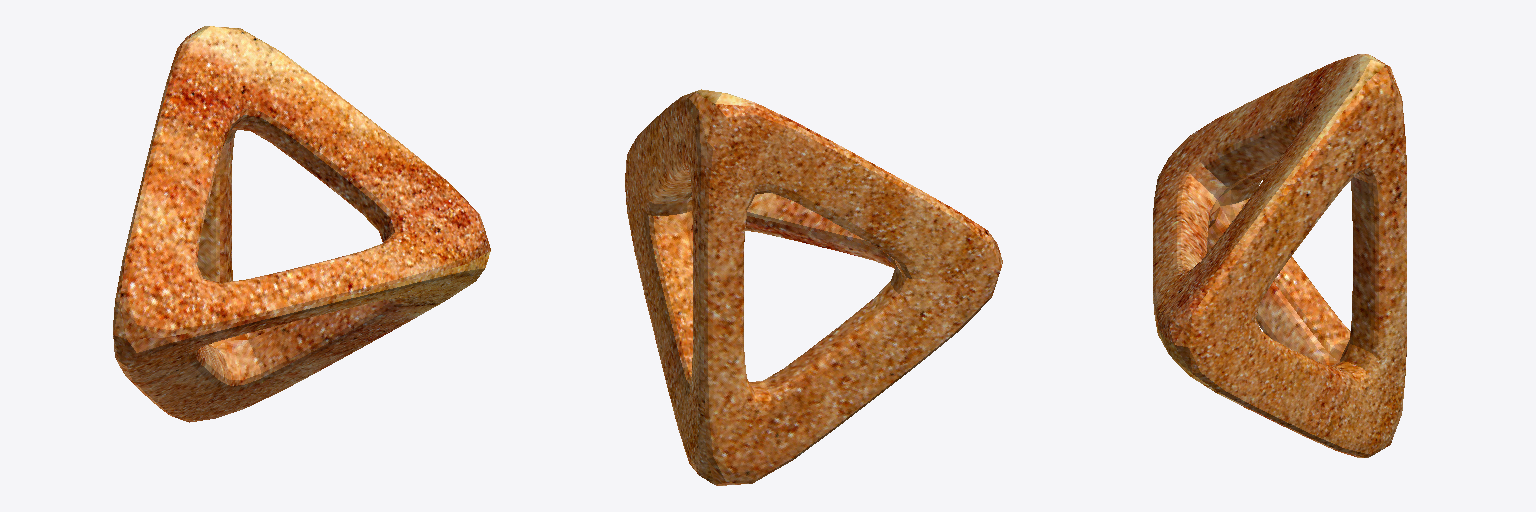
3 views of the same model, side by side, from view 1: azimuth 30°, elevation 25°; view 2: azimuth 150°, elevation 25°; view 3: azimuth 270°, elevation 25° (orthographic).
Parts seen in each view (by area): view 1: Cube.009; view 2: Cube.009; view 3: Cube.009.
Boxes of the visible parts, box(x1,y1,x2,y2) form: Cube.009: box(113, 26, 490, 422); Cube.009: box(625, 89, 1002, 485); Cube.009: box(1153, 54, 1406, 457).
Bounding box in the file's own units: 3.25 × 3.25 × 1.91.
1 materials, 1 textured.